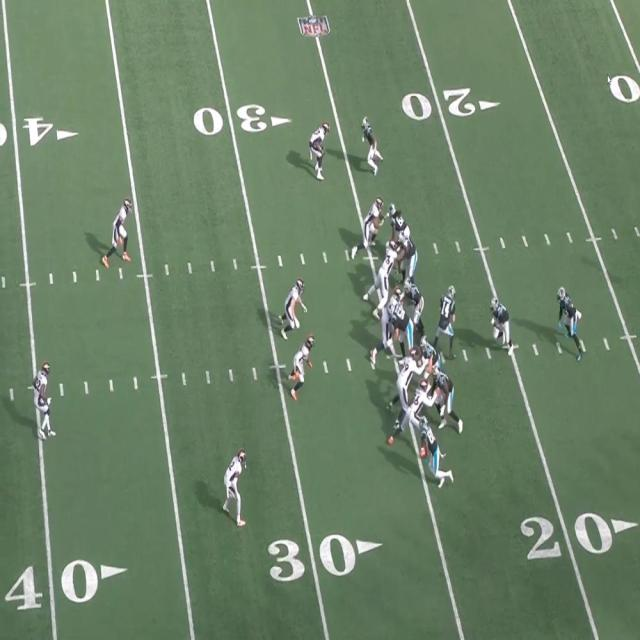center: (388, 304, 416, 351)
db: (224, 450, 246, 520), (108, 200, 130, 262), (35, 365, 51, 445), (309, 122, 328, 176)
lb: (288, 338, 312, 402), (283, 280, 303, 336), (364, 200, 383, 251)
qb: (440, 284, 458, 360)
skill: (557, 285, 582, 361), (490, 296, 515, 356), (423, 421, 443, 486), (362, 117, 382, 172), (387, 205, 402, 249)
